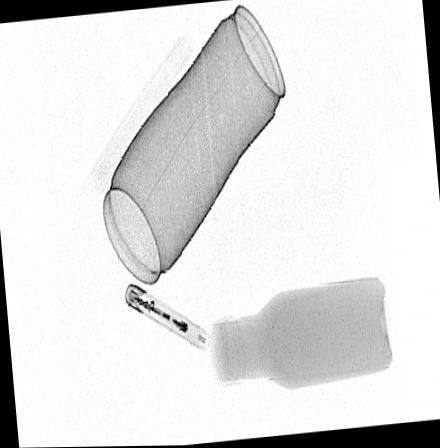Lighter: (124, 282, 210, 352)
